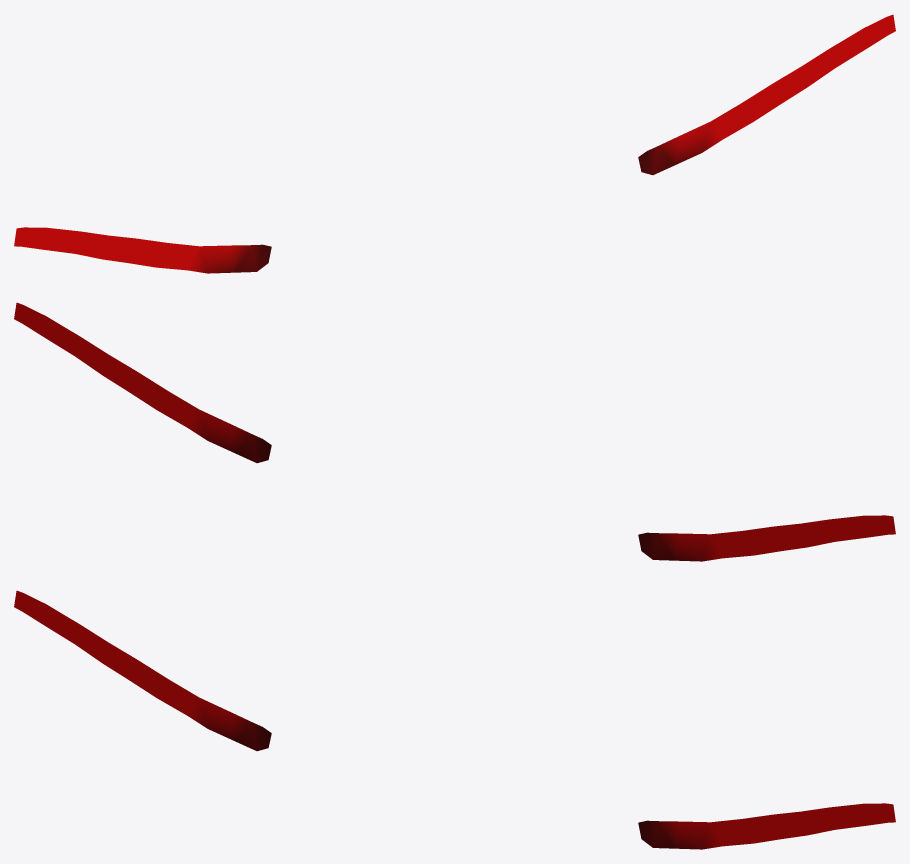
The model's file is frame185.fbx.
The picture shows the model from 3 angles, top to bottom: view 1: azimuth 30°, elevation 25°; view 2: azimuth 150°, elevation 25°; view 3: azimuth 330°, elevation 25°; orthographic projection.
Parts seen in each view (by area): view 1: MaterialLayer; view 2: MaterialLayer; view 3: MaterialLayer.
Part boxes in pixels (box(x1,y1,x2,y2)): MaterialLayer: box(14, 14, 895, 273); MaterialLayer: box(14, 302, 895, 561); MaterialLayer: box(14, 590, 895, 849).
Size of the model in its own units: 1548 by 172 by 0.
